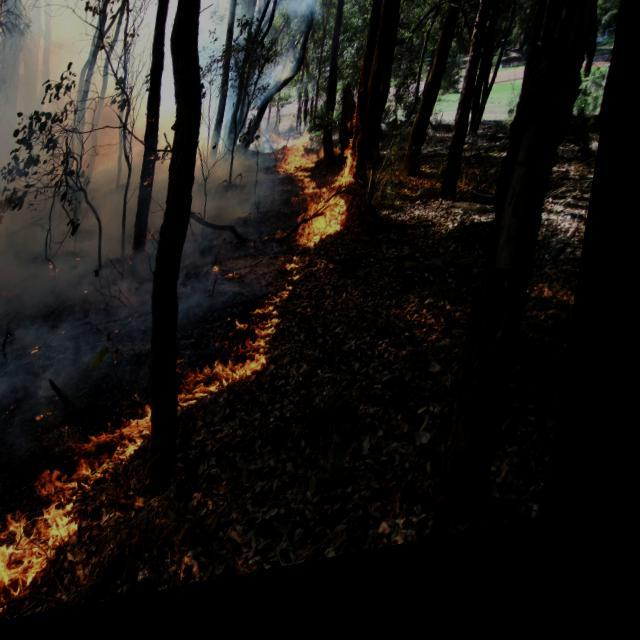Fire: (0, 121, 378, 631)
